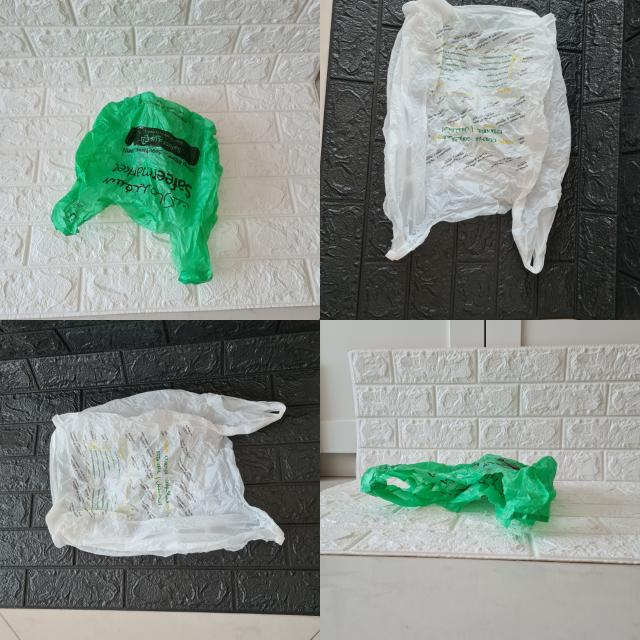Single-layer Plastic: (384, 0, 570, 274), (46, 390, 285, 556), (52, 92, 222, 284), (360, 454, 558, 528)
